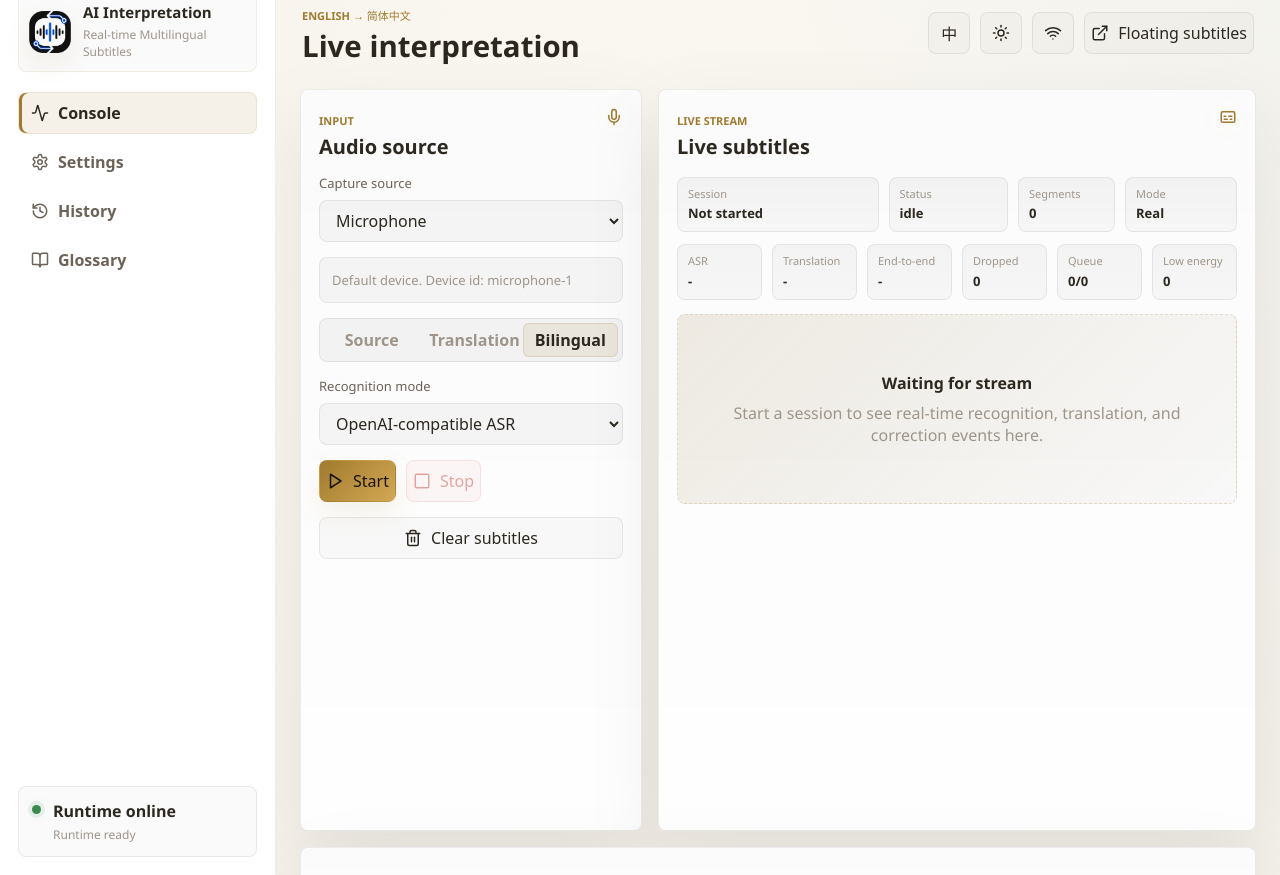
Scenario: App desktop flows › reports ASR success and translation connection failure
Expected: the text "Runtime ready" is shown, [53, 826, 136, 843]
Click the button "Settings".
click(138, 162)  # box [18, 140, 257, 182]
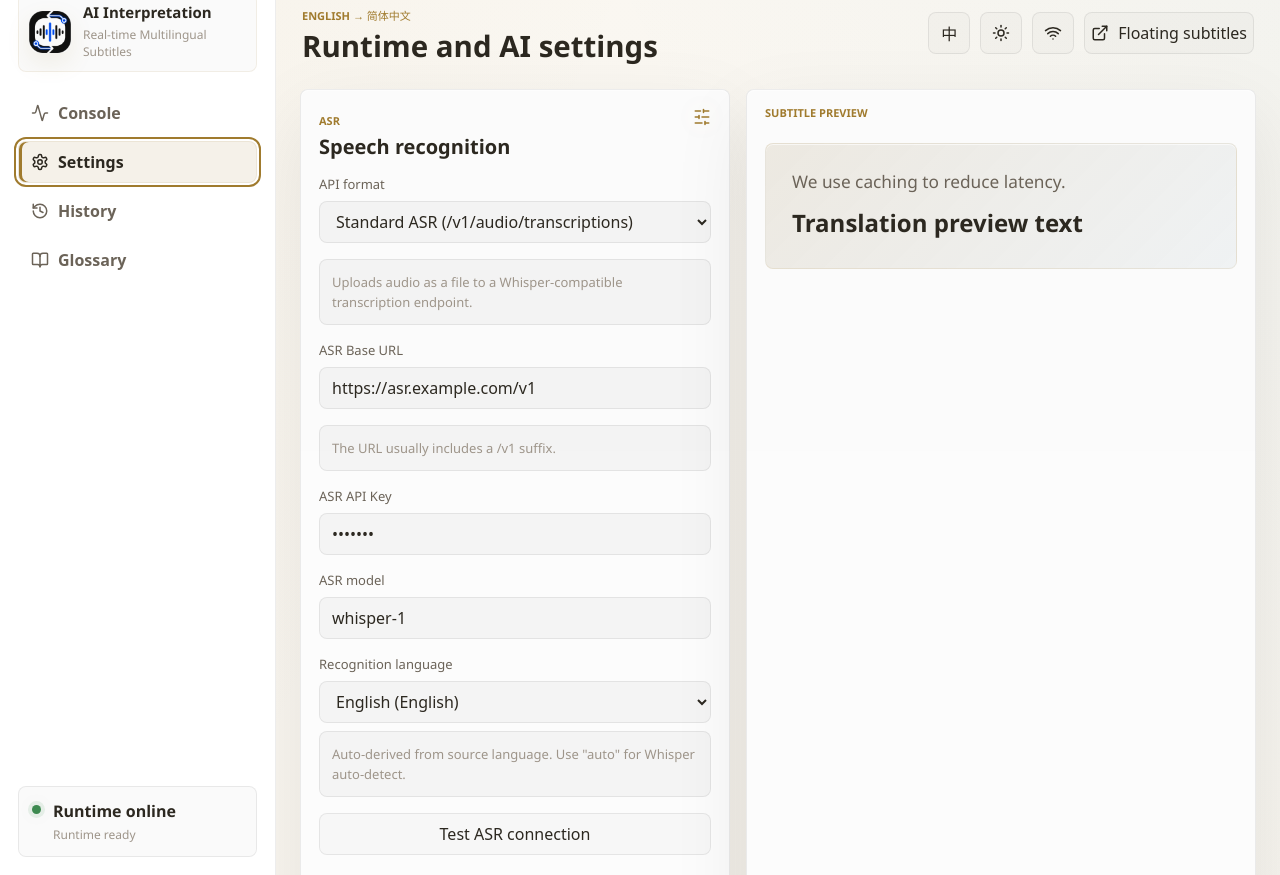
Click the button "Test ASR connection".
click(515, 834)  # box [319, 813, 711, 855]
(page scrolled)
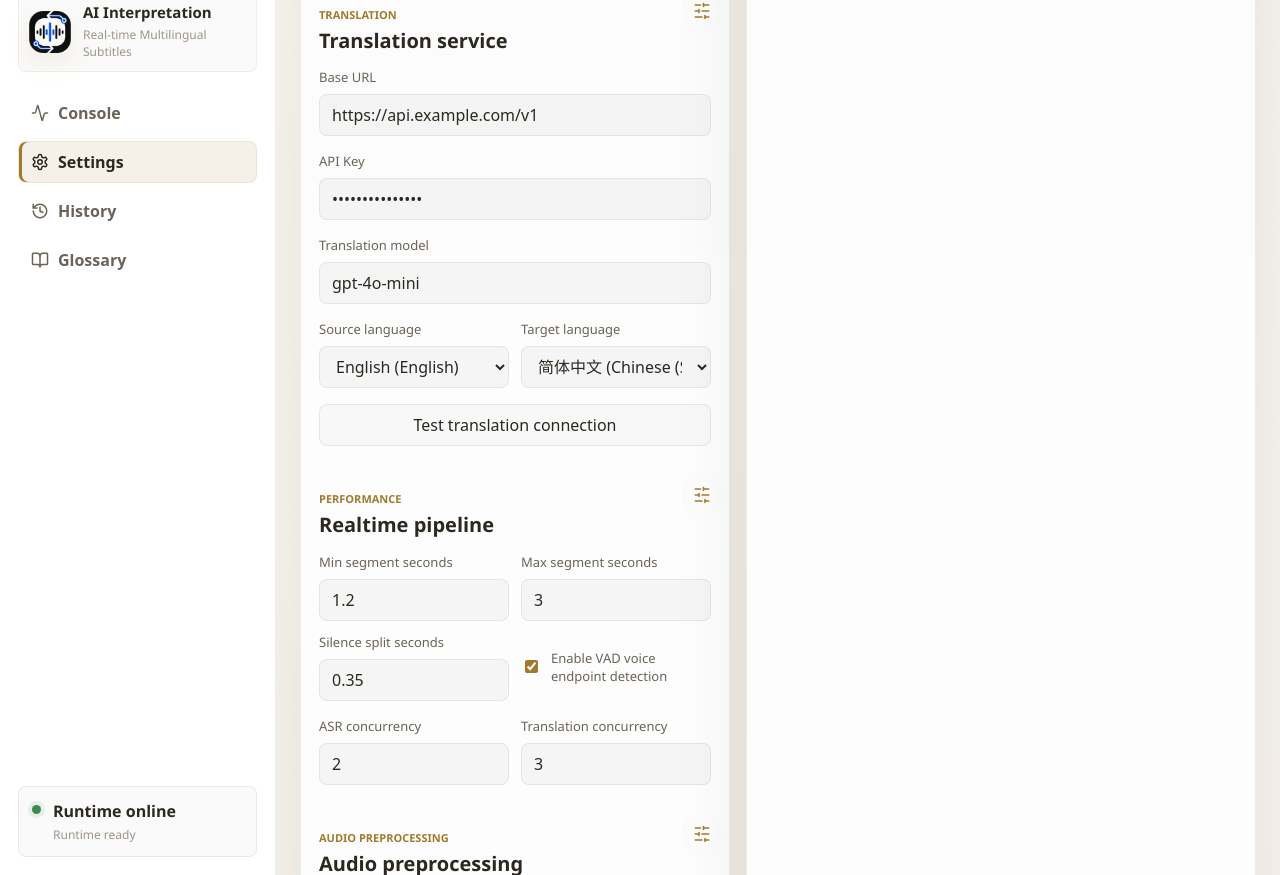
Click the button "Test translation connection".
click(515, 425)  # box [319, 404, 711, 446]
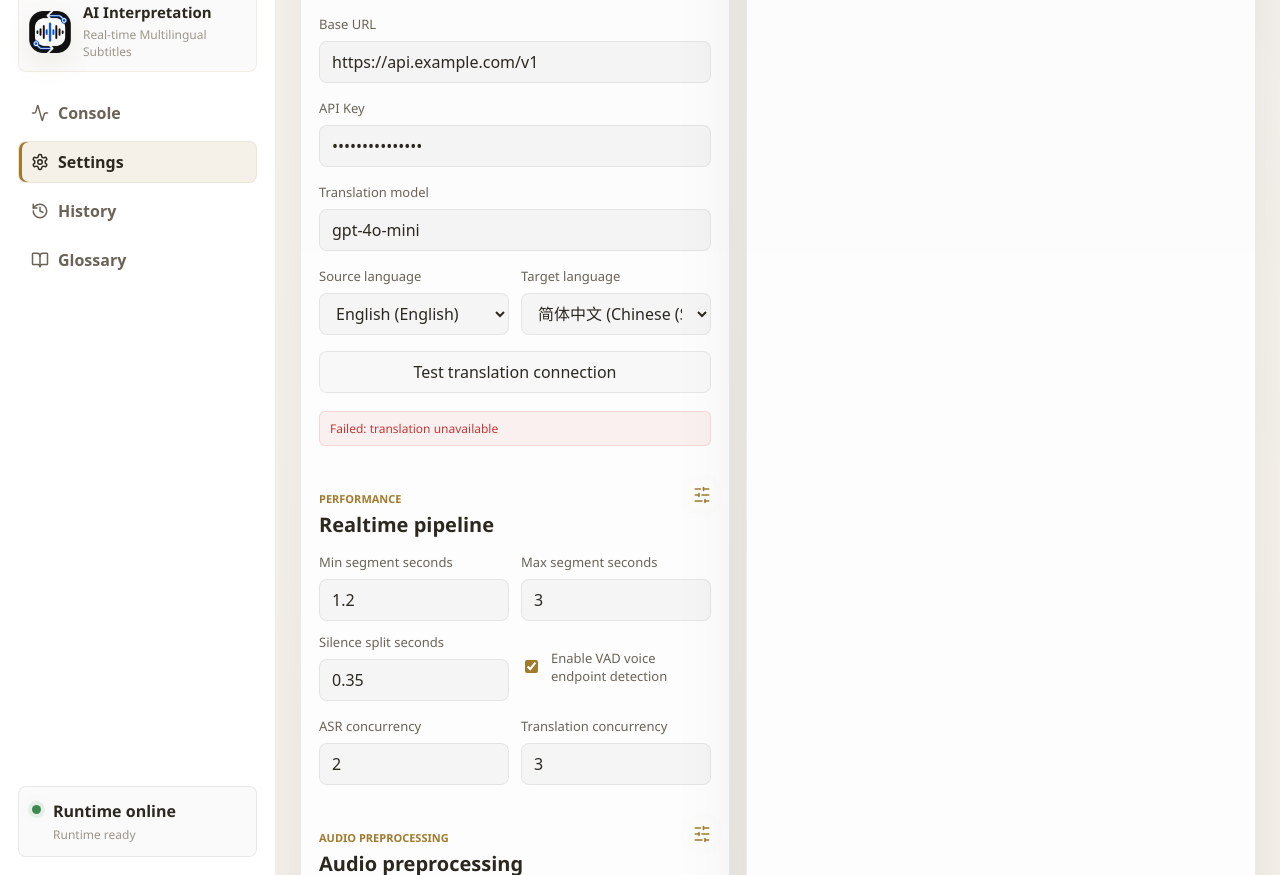
Expected: the text "Failed: translation unavailable" is shown, [319, 411, 711, 446]
